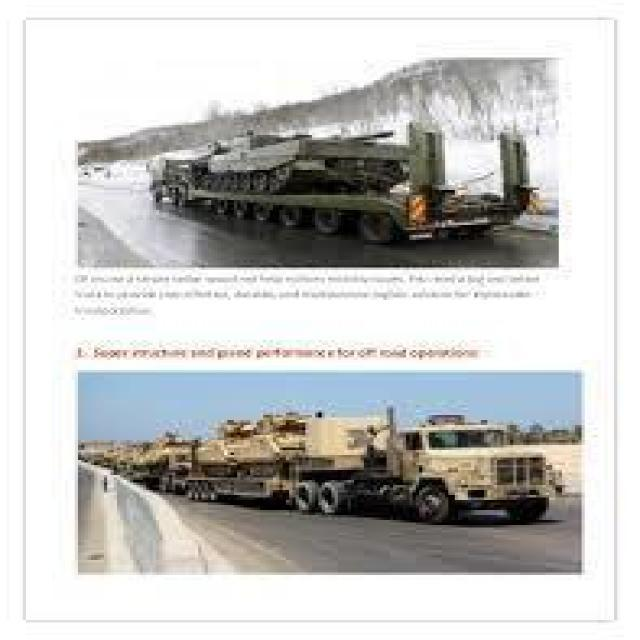MIL_MBT: (94, 396, 572, 549), (143, 71, 539, 241)
